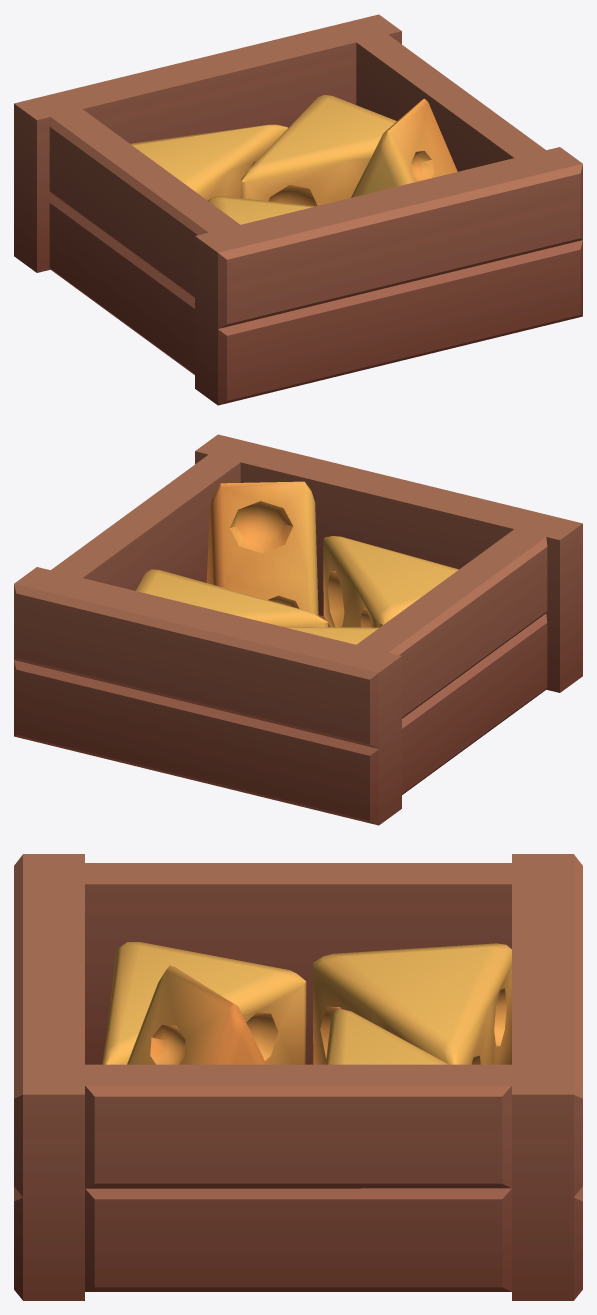
Rendered from cheese_counter.glb.
3 views of the same model, one above another, from view 1: azimuth 30°, elevation 25°; view 2: azimuth 150°, elevation 25°; view 3: azimuth 270°, elevation 25° (orthographic). The views are drawn at different scales.
Visible parts, largest first — view 1: crate_cheese; view 2: crate_cheese; view 3: crate_cheese.
Part boxes in pixels (x1,y1,x2,y2): crate_cheese: (14,14,582,405); crate_cheese: (14,434,582,825); crate_cheese: (14,854,582,1300).
Size of the model in its own units: 2 by 0.946 by 2.
1 material, 1 textured.
